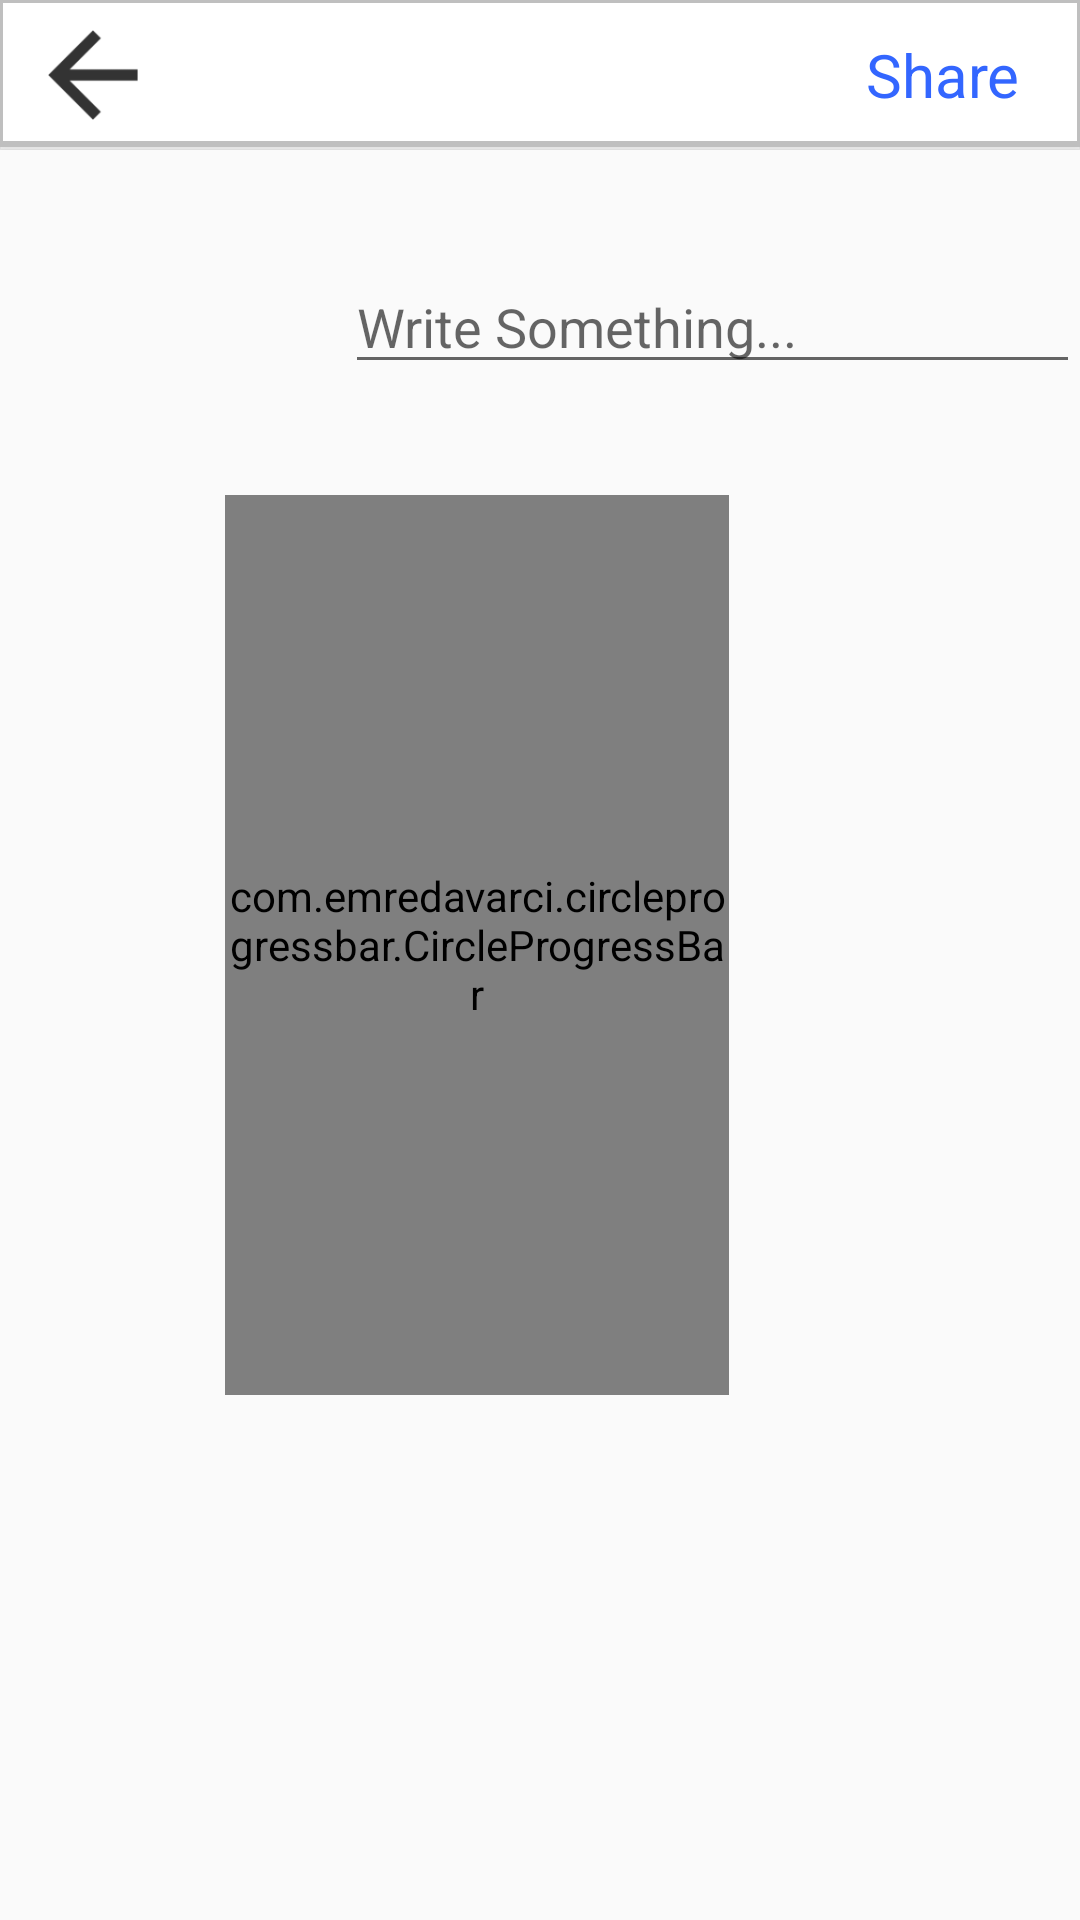

Icons on this 1080 × 1920 Android screen, each with its box as box(x1, y1, x2, y2):
backarrow: box(48, 30, 138, 120)
